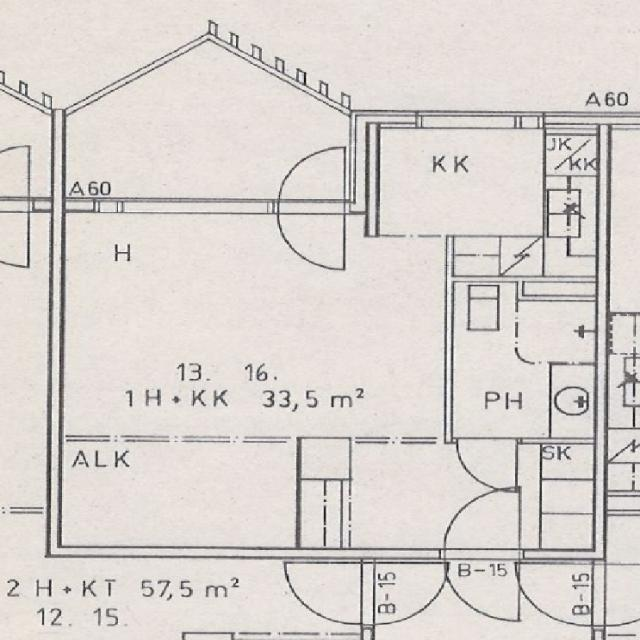door: (444, 549, 520, 619), (444, 490, 520, 559), (278, 198, 344, 264), (278, 146, 344, 212), (458, 437, 518, 490)
